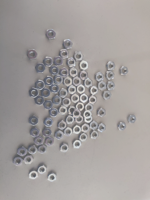nut: (45, 29, 57, 40), (26, 49, 37, 60), (62, 39, 73, 50), (53, 94, 63, 106), (50, 83, 60, 95), (47, 172, 57, 183), (28, 171, 39, 181), (35, 64, 46, 74), (43, 56, 53, 67), (29, 88, 39, 99), (28, 116, 39, 126), (28, 145, 38, 156), (44, 118, 54, 129), (42, 128, 52, 139), (69, 67, 79, 78), (106, 80, 116, 91), (89, 94, 98, 106), (37, 165, 47, 175), (60, 68, 70, 78), (24, 155, 34, 165), (30, 128, 40, 138), (34, 137, 44, 147), (35, 96, 45, 106), (40, 88, 50, 98), (45, 76, 55, 86), (63, 77, 73, 87), (106, 71, 116, 81), (83, 110, 93, 120), (65, 116, 75, 126), (84, 113, 94, 123), (60, 49, 69, 60), (80, 60, 89, 71), (13, 157, 22, 168), (55, 130, 64, 141), (73, 139, 82, 150), (44, 100, 53, 111), (59, 88, 68, 99), (55, 75, 64, 86), (80, 93, 89, 104), (102, 91, 113, 100), (76, 115, 85, 126), (118, 122, 127, 132), (128, 115, 137, 125), (97, 108, 106, 118), (120, 66, 129, 76), (106, 62, 115, 72), (95, 72, 104, 82), (67, 58, 76, 68), (17, 147, 26, 157), (64, 127, 73, 137), (58, 121, 67, 131), (35, 80, 45, 89), (79, 71, 89, 80), (71, 94, 81, 103), (68, 106, 77, 116), (62, 98, 72, 107), (98, 81, 107, 91), (73, 77, 82, 87), (82, 123, 90, 134), (91, 86, 99, 97), (74, 52, 83, 61), (45, 138, 54, 147), (73, 126, 82, 135), (77, 85, 86, 94), (55, 56, 63, 66), (61, 144, 69, 154), (39, 145, 47, 155), (49, 109, 59, 117), (80, 133, 88, 143), (59, 106, 67, 116), (99, 123, 106, 134), (91, 131, 99, 140), (91, 122, 99, 131), (69, 85, 76, 95), (74, 109, 81, 119), (76, 103, 84, 111), (86, 105, 94, 111)
